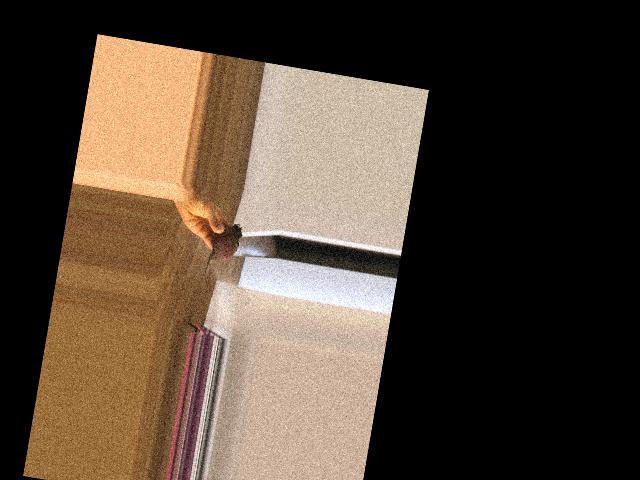beet: (202, 220, 243, 289)
